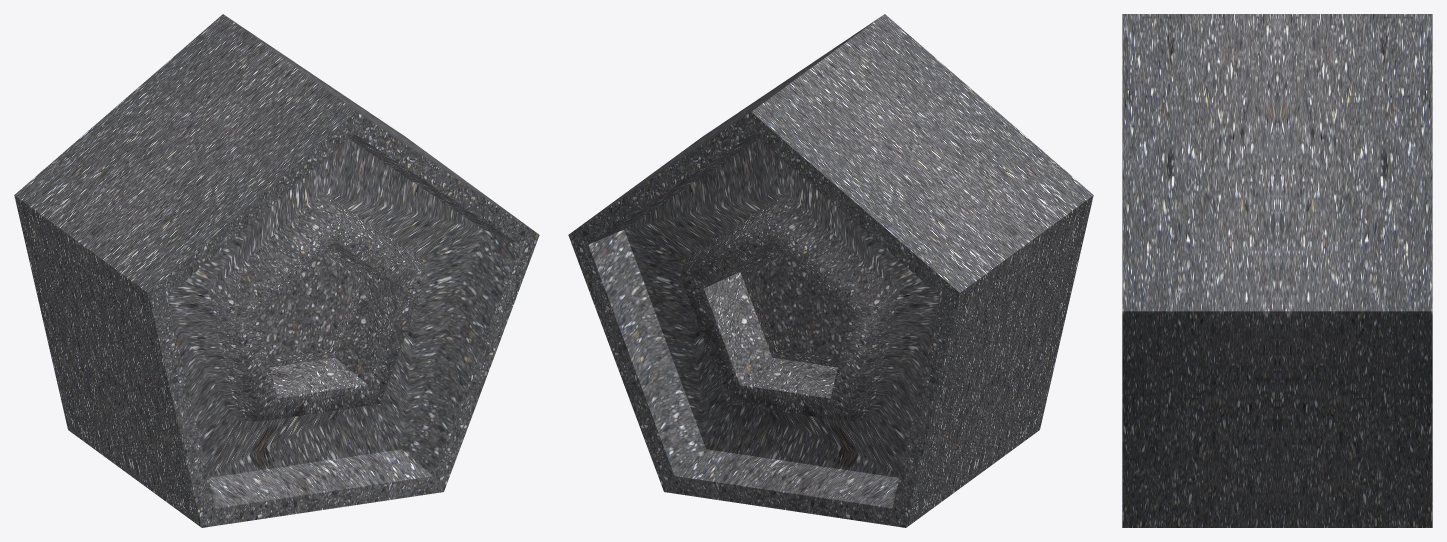
File: flower1.obj
3 renders of one model, left to right at view 1: azimuth 30°, elevation 25°; view 2: azimuth 150°, elevation 25°; view 3: azimuth 270°, elevation 25°, orthographic. The views are drawn at different scales.
Parts seen in each view (by area): view 1: Cylinder002; view 2: Cylinder002; view 3: Cylinder002.
Part boxes in pixels (bbox=[...]): Cylinder002: bbox=[14, 14, 539, 527]; Cylinder002: bbox=[568, 14, 1093, 527]; Cylinder002: bbox=[1122, 14, 1432, 527].
Size of the model in its own units: 10.11 by 9.9 by 5.98.
